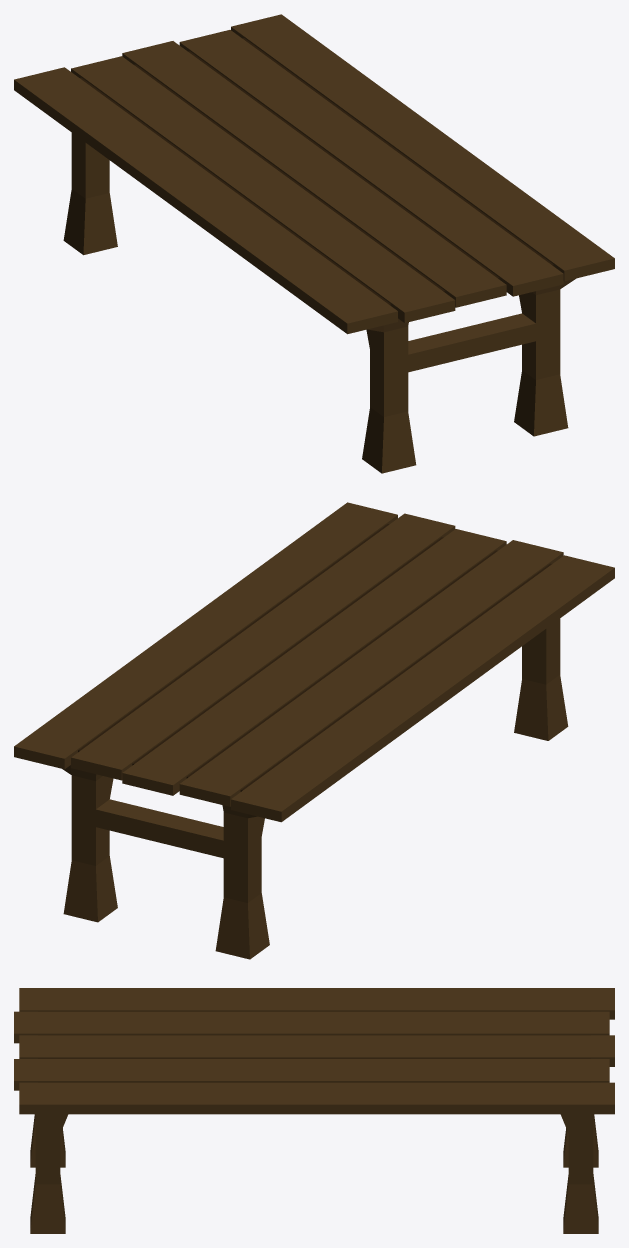
The model's file is Table.fbx.
3 views of the same model, one above another, from view 1: azimuth 30°, elevation 25°; view 2: azimuth 150°, elevation 25°; view 3: azimuth 270°, elevation 25° (orthographic). The views are drawn at different scales.
Visible parts, largest first — view 1: Cube.006; view 2: Cube.006; view 3: Cube.006.
Part boxes in pixels (x1=…): Cube.006: x1=14, y1=14, x2=614, y2=473; Cube.006: x1=14, y1=502, x2=614, y2=959; Cube.006: x1=14, y1=988, x2=614, y2=1233.
Bounding box in the file's own units: 3.33 × 7.25 × 1.95.
